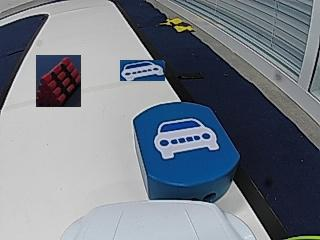safety: (154, 118, 222, 158)
